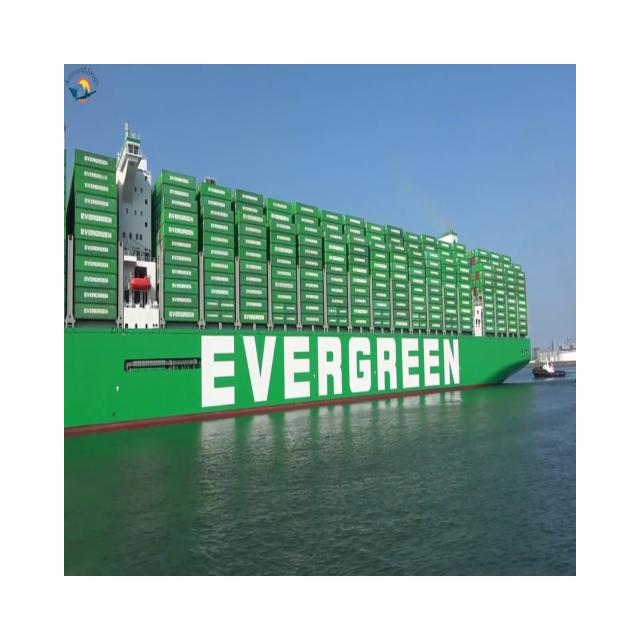OCR: (190, 322, 470, 413)
